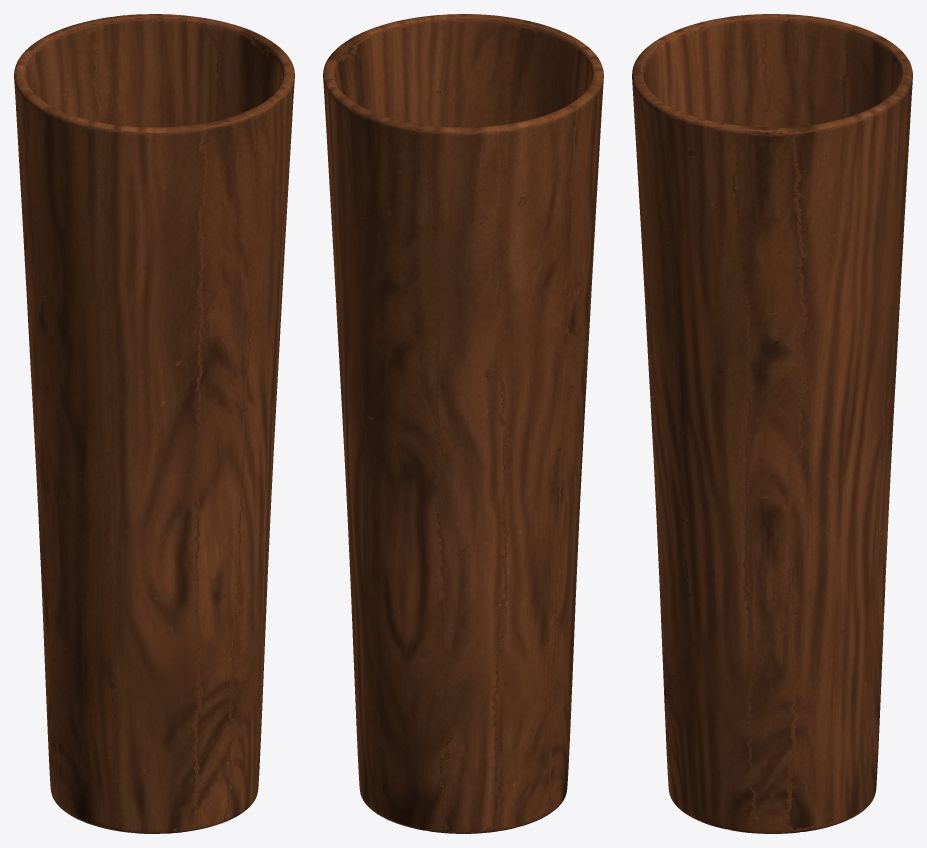
3 renders of one model, left to right at view 1: azimuth 30°, elevation 25°; view 2: azimuth 150°, elevation 25°; view 3: azimuth 270°, elevation 25°, orthographic.
Bounding box in the file's own units: 0.6691 × 1.89 × 0.6691.
1 material, 1 textured.
